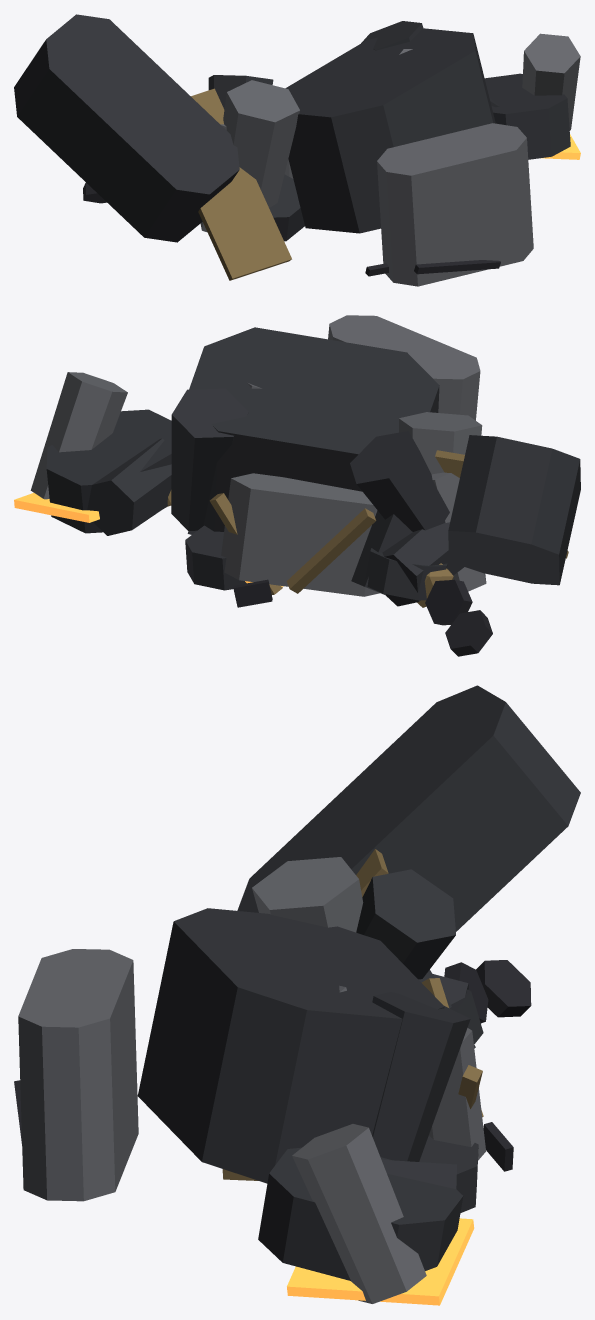
File: Wreck_Aegis_AATrooper.fbx
3 views of the same model, one above another, from view 1: azimuth 30°, elevation 25°; view 2: azimuth 150°, elevation 25°; view 3: azimuth 270°, elevation 25° (orthographic). The views are drawn at different scales.
Visible parts, largest first — view 1: Wreck_Aegis_AATrooper; view 2: Wreck_Aegis_AATrooper; view 3: Wreck_Aegis_AATrooper.
Boxes of the visible parts, x1,y1,x2,y2 form: Wreck_Aegis_AATrooper: [14, 14, 580, 286]; Wreck_Aegis_AATrooper: [14, 315, 580, 656]; Wreck_Aegis_AATrooper: [14, 685, 580, 1305].
Size of the model in its own units: 0.933 by 0.3628 by 0.6113.
